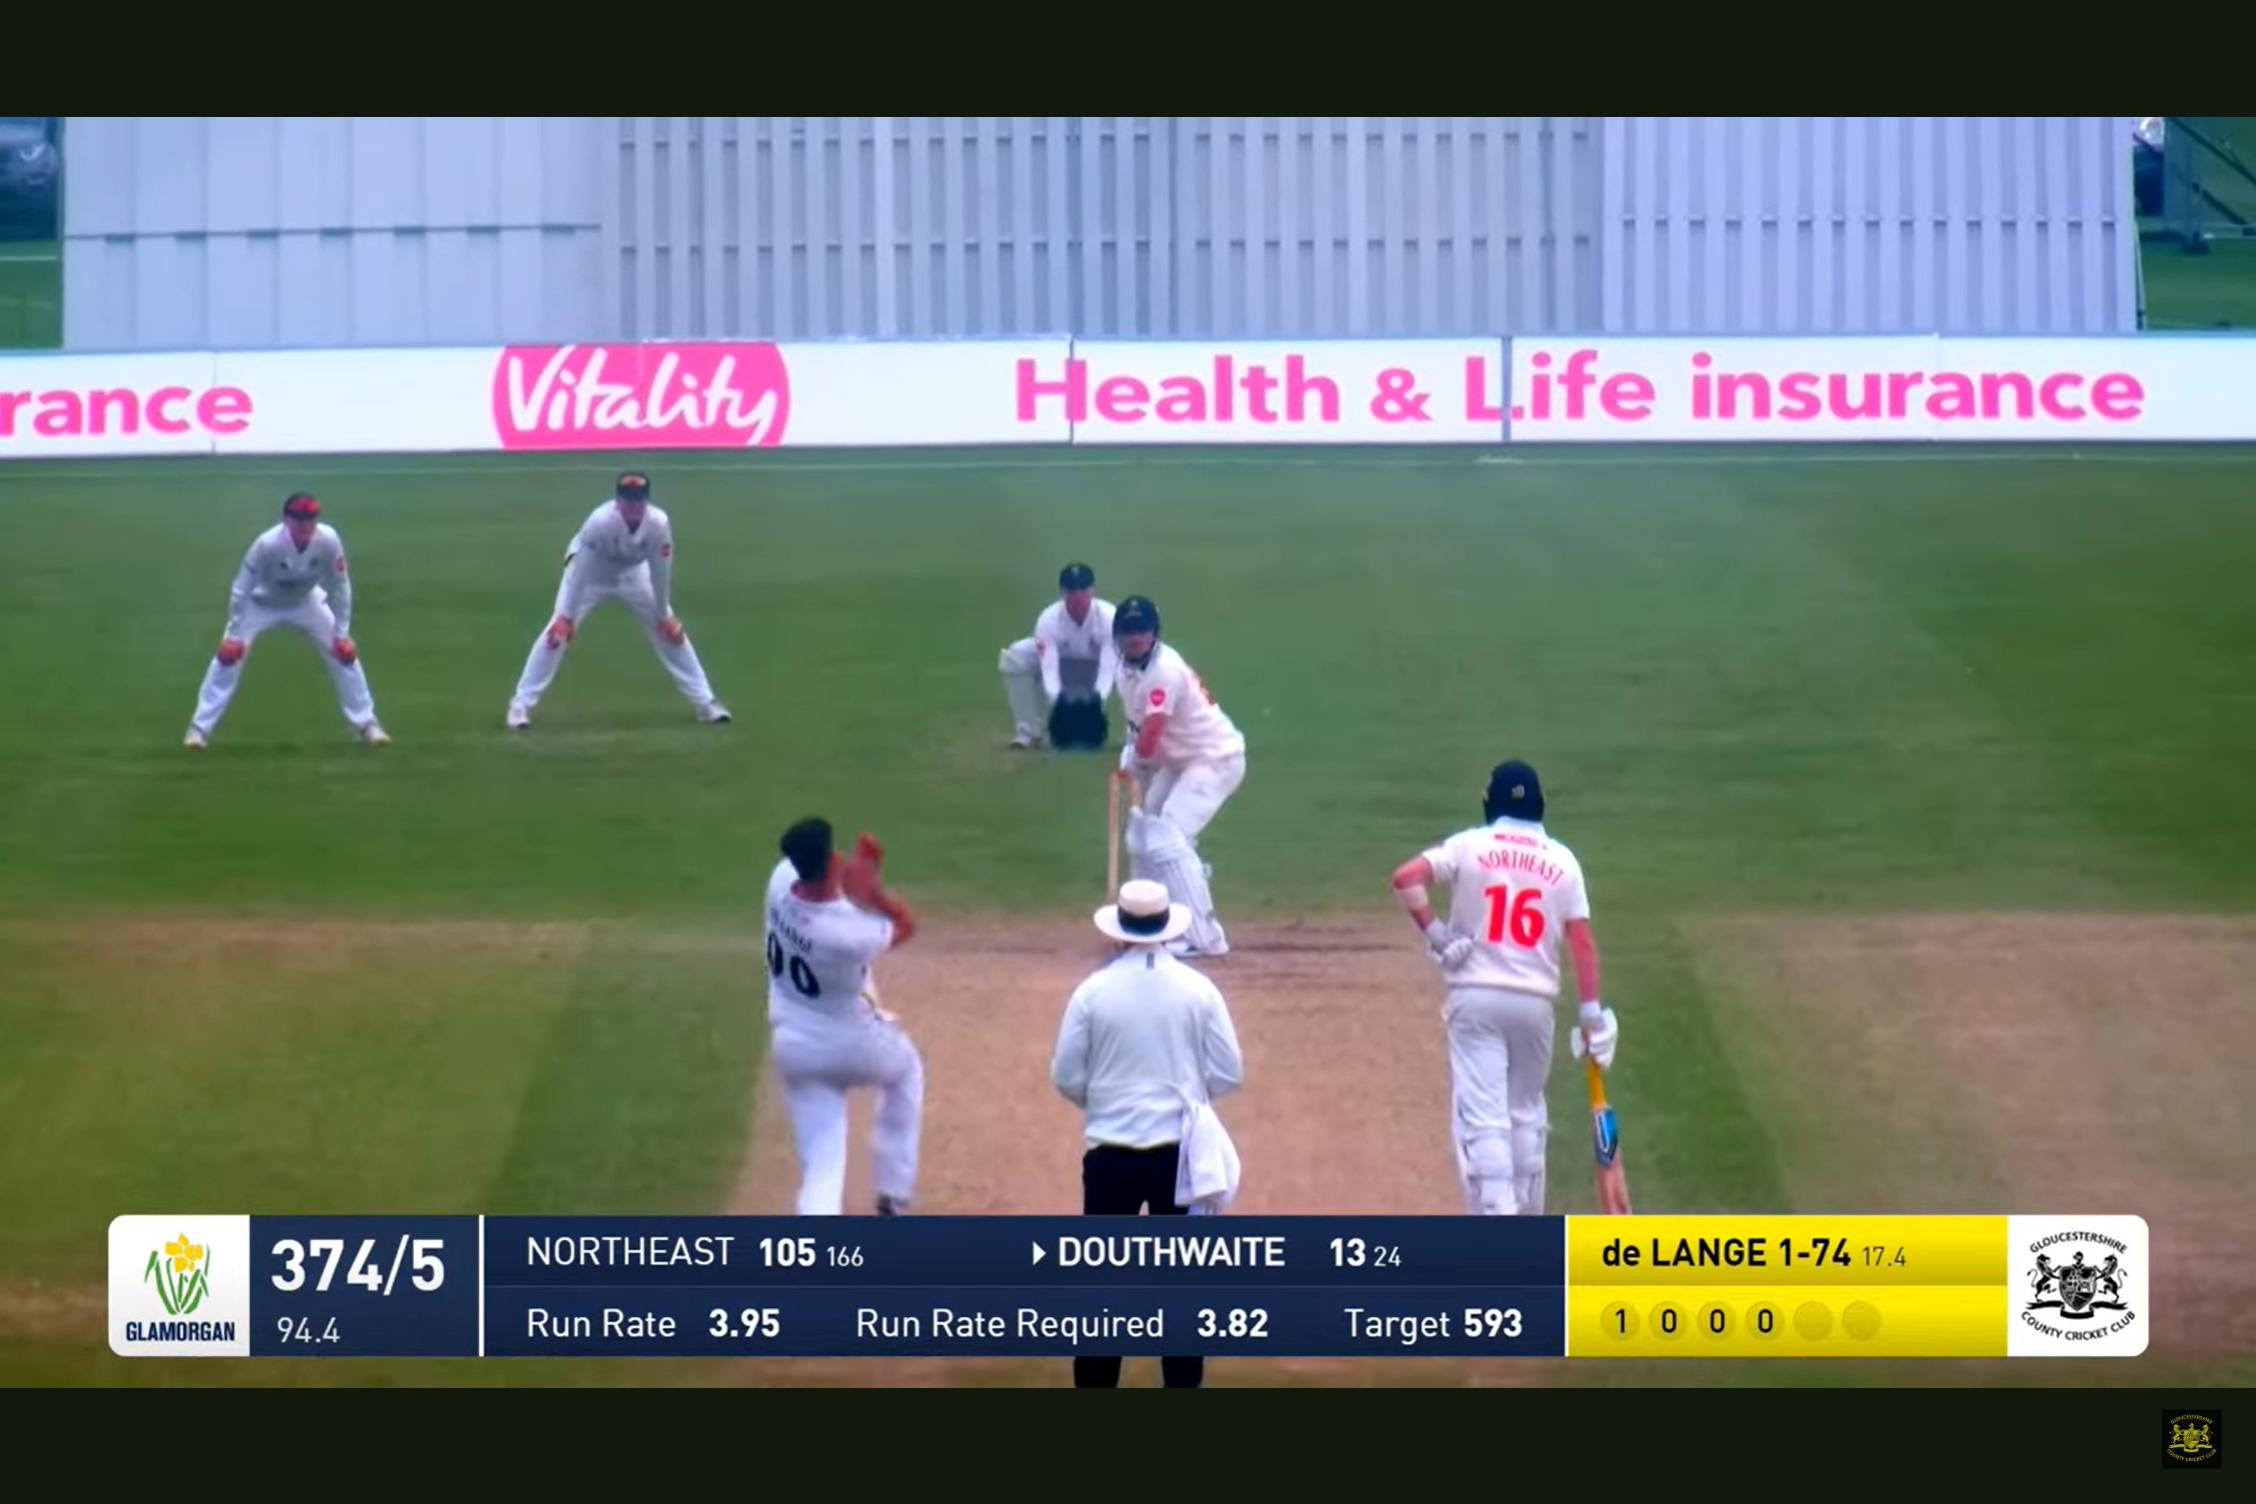bowler running in: (681, 792, 948, 1210)
non striker: (1378, 744, 1648, 1205)
umpire: (1010, 883, 1277, 1204)
wicket keeper: (975, 561, 1121, 750)
